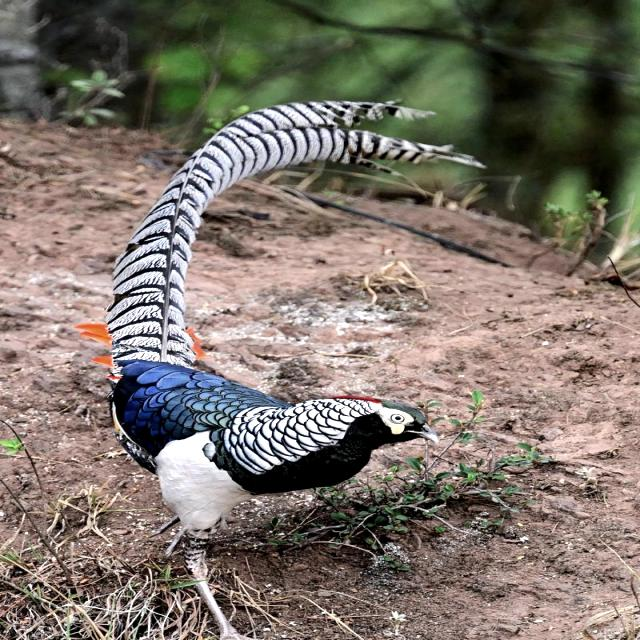Chrysolophus amherstiae: (106, 101, 438, 366)
